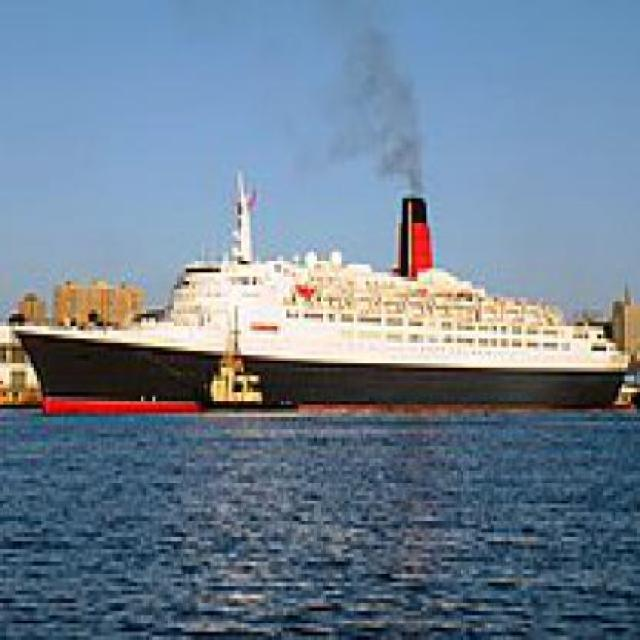cruise: (23, 179, 629, 426)
